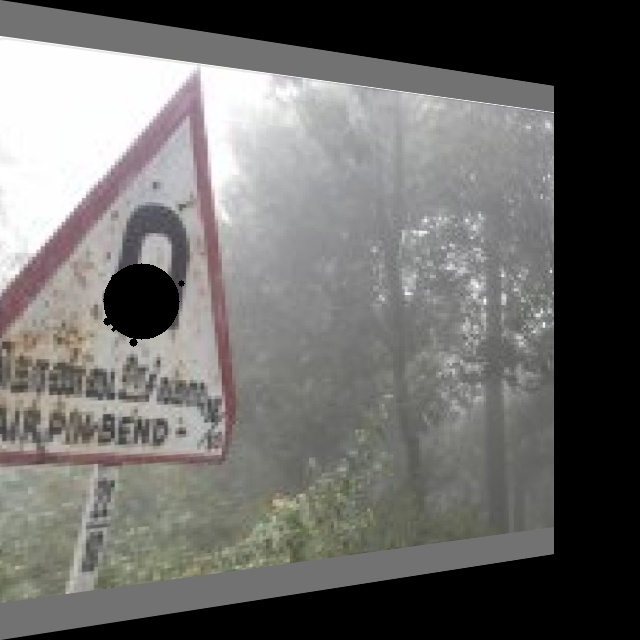Left_Hair_Pin_Bend: (18, 109, 242, 362)
